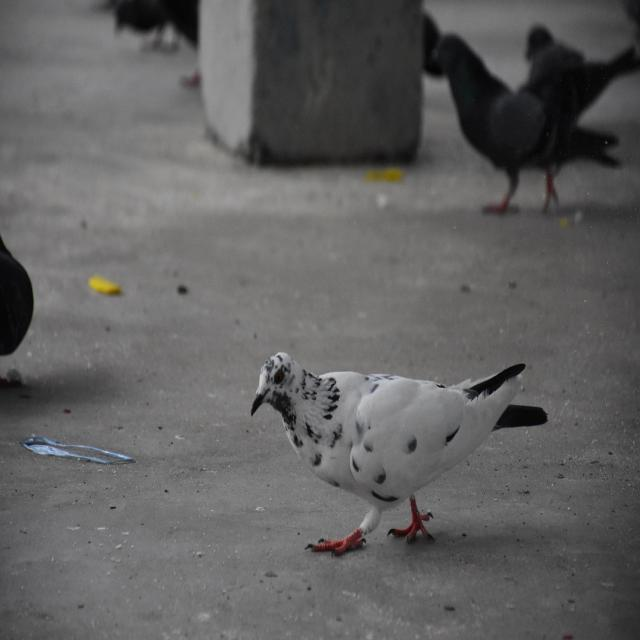pegion: (168, 258, 550, 611)
